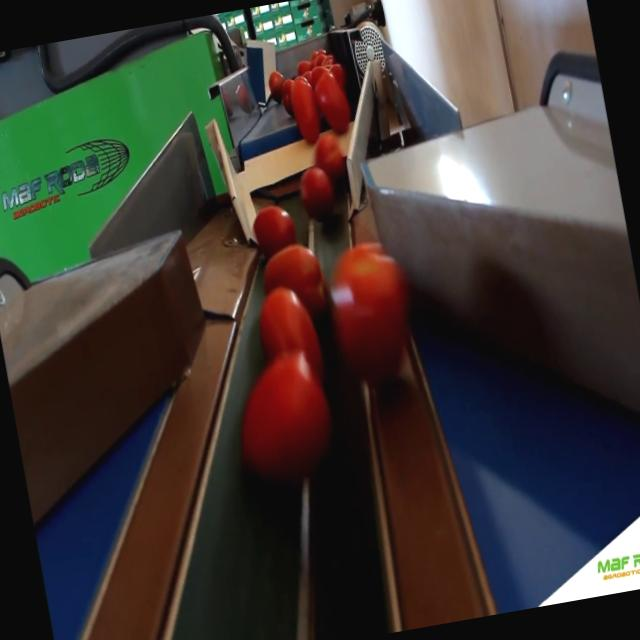Tomato: (322, 236, 426, 392), (228, 350, 338, 486), (248, 282, 324, 386), (259, 241, 327, 305), (282, 72, 324, 145), (313, 65, 355, 133), (244, 202, 297, 251), (294, 164, 340, 219), (313, 134, 347, 178), (266, 68, 289, 100), (296, 56, 312, 74)
